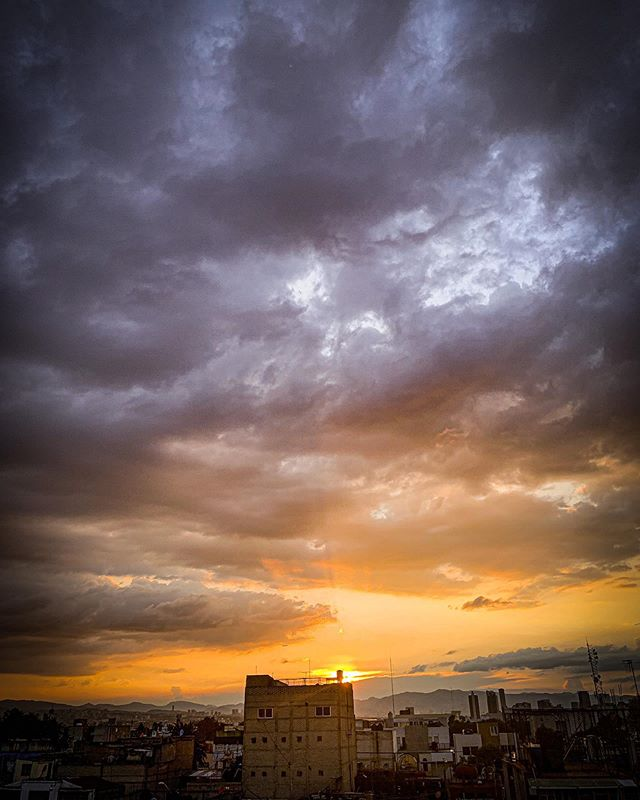building: (230, 672, 356, 800)
sky: (1, 1, 640, 677)
